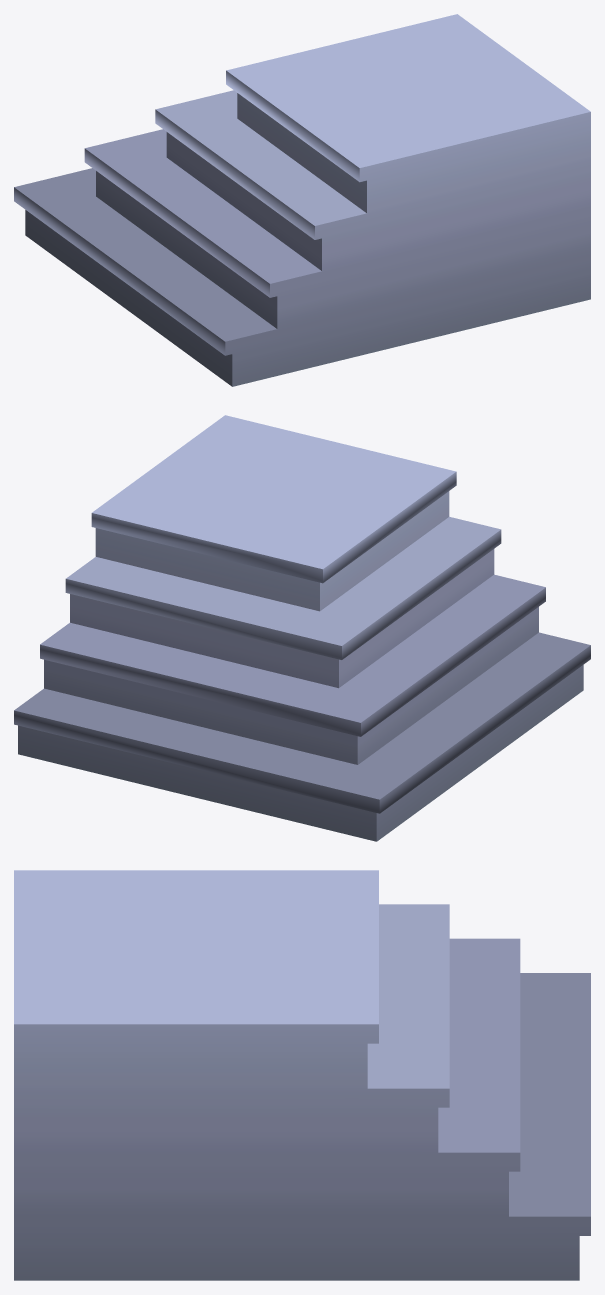
Rendered from stairs-full-corner-outer.glb.
3 views of the same model, one above another, from view 1: azimuth 30°, elevation 25°; view 2: azimuth 150°, elevation 25°; view 3: azimuth 270°, elevation 25° (orthographic). The views are drawn at different scales.
Visible parts, largest first — view 1: stairs-full-corner-outer; view 2: stairs-full-corner-outer; view 3: stairs-full-corner-outer.
Boxes of the visible parts, x1,y1,x2,y2 form: stairs-full-corner-outer: [14, 14, 590, 386]; stairs-full-corner-outer: [14, 415, 590, 841]; stairs-full-corner-outer: [14, 870, 590, 1280].
Size of the model in its own units: 1.02 by 0.5 by 1.02.
Materials: 1 (1 with a texture image).
